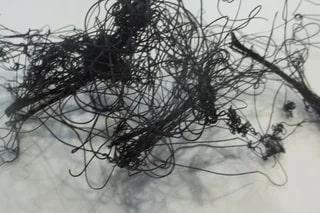Printing-Artifact: (3, 0, 167, 164), (107, 52, 239, 179)
